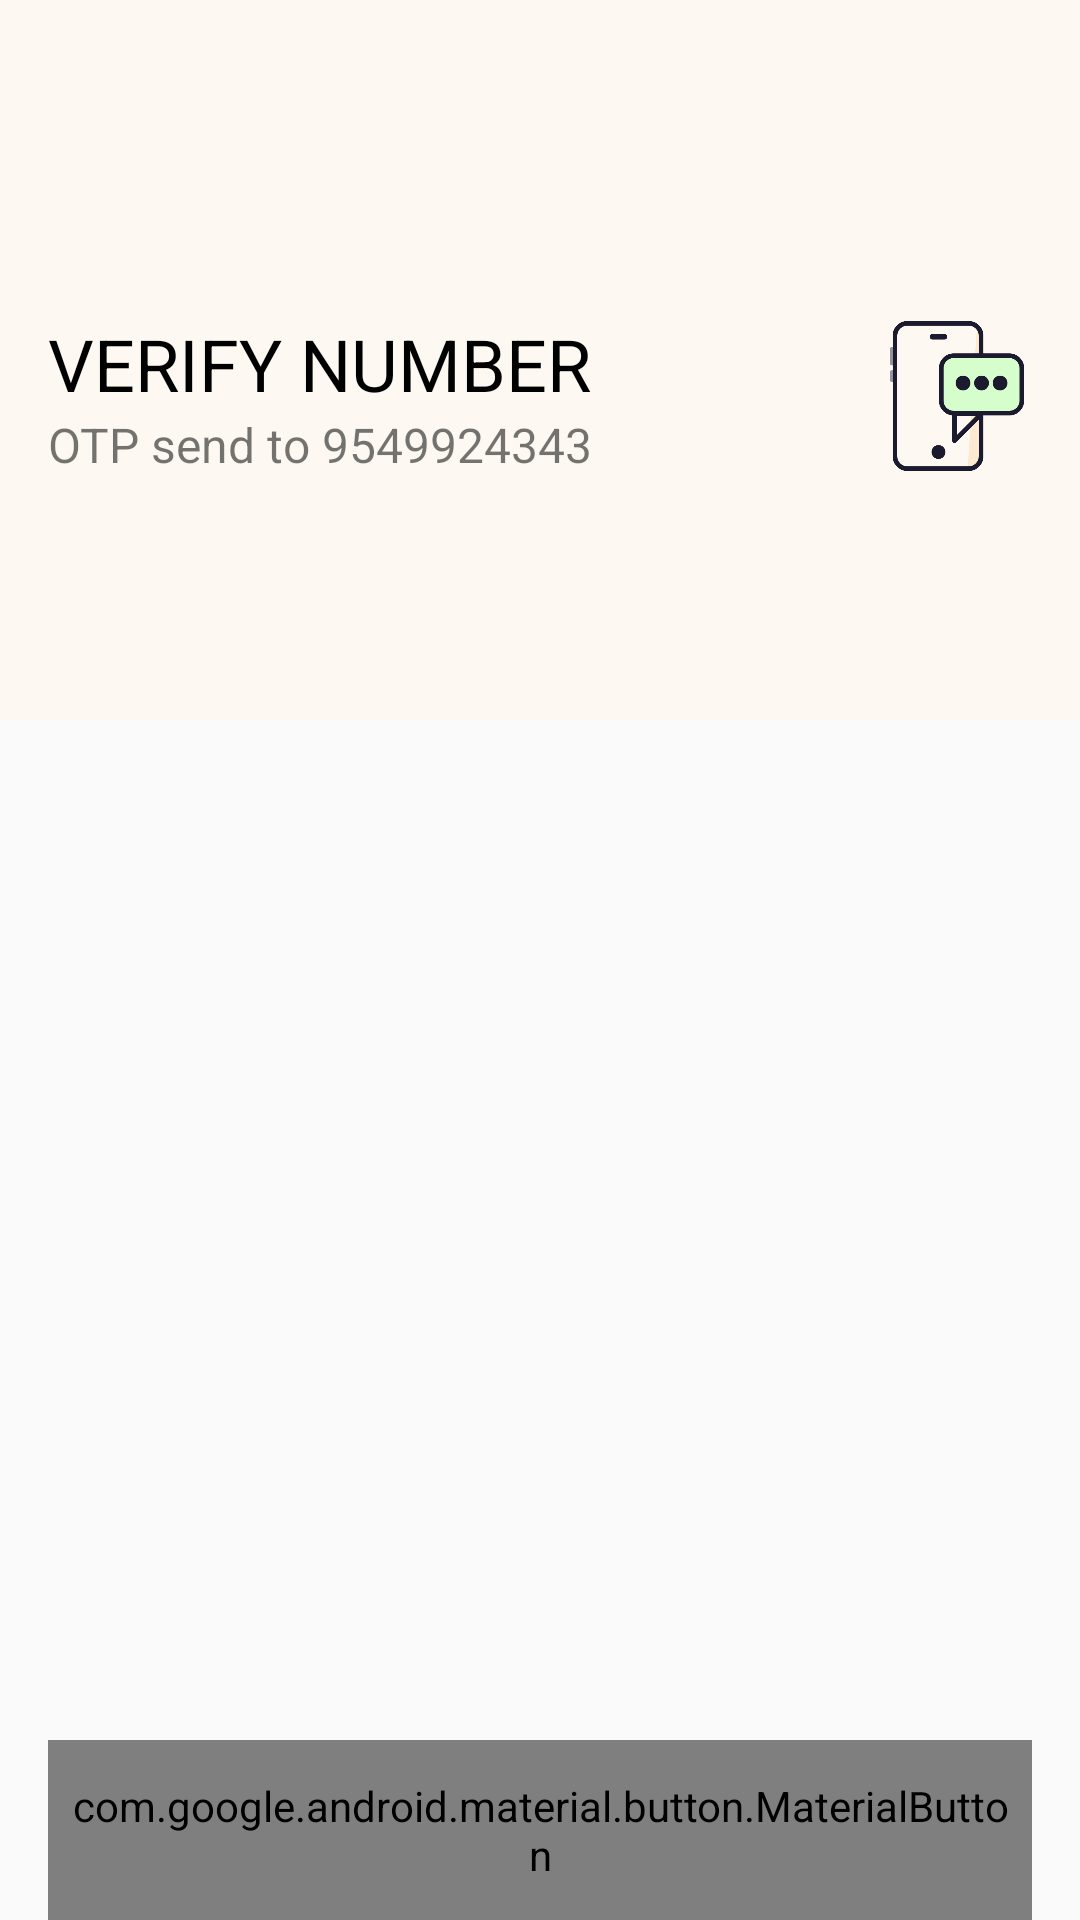

Icon click points for this 1080*1920 phone screenshot, format point (x, y):
mobile: point (957, 396)
